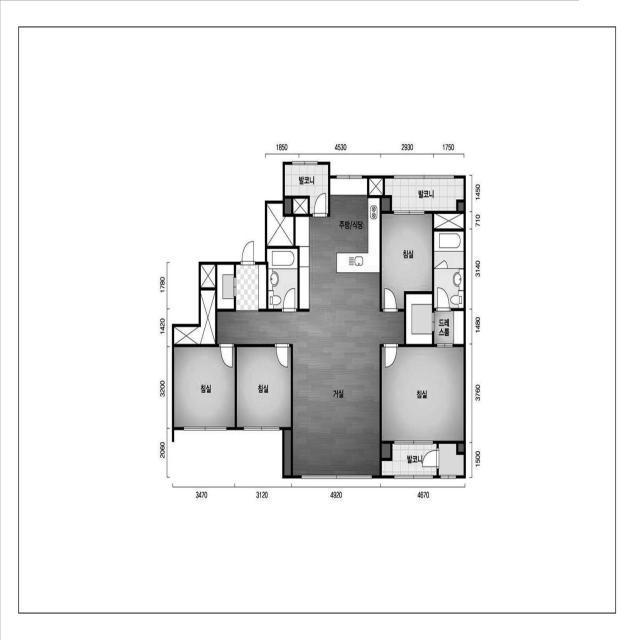space_balconi: (385, 178, 464, 211), (285, 164, 328, 214), (382, 444, 437, 476)
space_bedroom: (382, 347, 464, 441), (174, 347, 235, 428), (382, 214, 432, 309), (237, 347, 291, 427)
space_dressroom: (406, 294, 432, 344), (434, 311, 464, 344)
space_front: (217, 265, 267, 312)
space_kitchen: (296, 178, 380, 312)
space_living_room: (217, 312, 404, 476)
space_other: (174, 290, 216, 344), (267, 203, 294, 246), (439, 444, 464, 476), (434, 214, 464, 229), (201, 264, 216, 287), (293, 198, 308, 214), (369, 178, 383, 195)
space_toilet: (434, 232, 464, 308), (267, 249, 298, 309)
